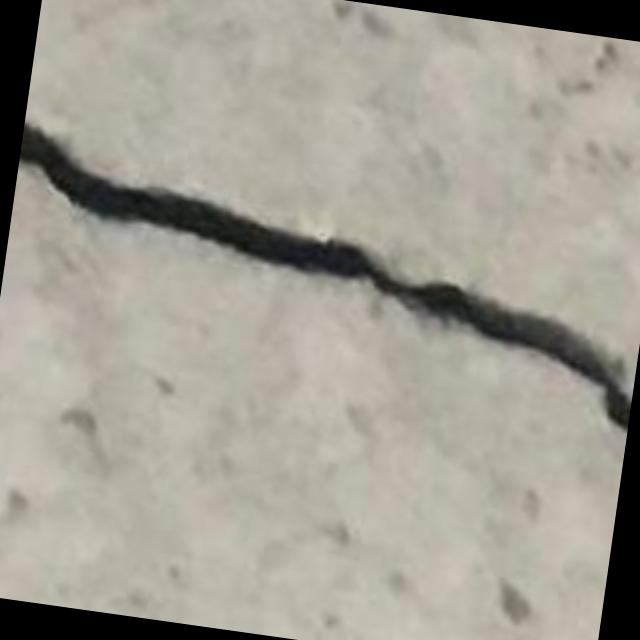crack: (19, 123, 632, 432)
